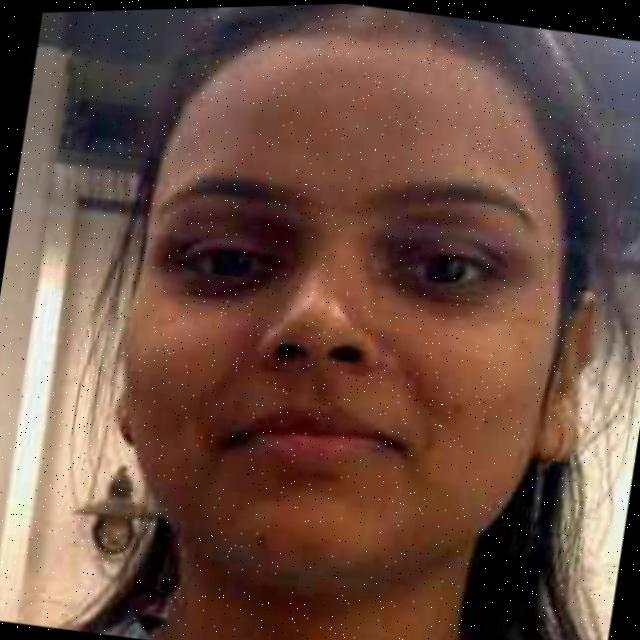puffy_eyes: (389, 272, 496, 316), (171, 271, 283, 301)
